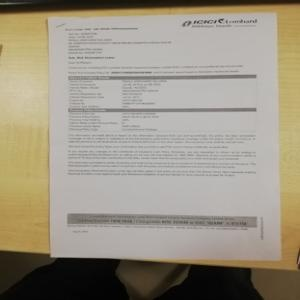image: (178, 16, 258, 32)
table: (68, 75, 255, 107), (68, 107, 259, 133)
text: (63, 26, 243, 74), (67, 133, 263, 177)
